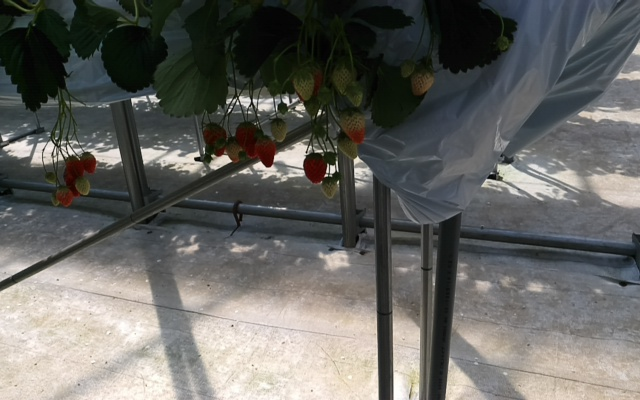GreenStrawberry: (338, 107, 367, 145), (331, 63, 358, 96), (291, 66, 314, 101), (411, 66, 435, 97), (336, 134, 358, 160), (346, 83, 364, 107), (269, 118, 286, 142), (321, 176, 338, 199), (226, 135, 239, 163), (400, 59, 414, 79), (74, 178, 90, 195), (51, 193, 61, 209), (44, 173, 54, 184)
MatureStrawberry: (296, 60, 321, 108), (201, 120, 230, 157), (235, 121, 263, 159), (303, 152, 327, 184), (256, 135, 276, 169), (65, 155, 84, 182), (79, 151, 98, 174), (57, 186, 73, 207)
